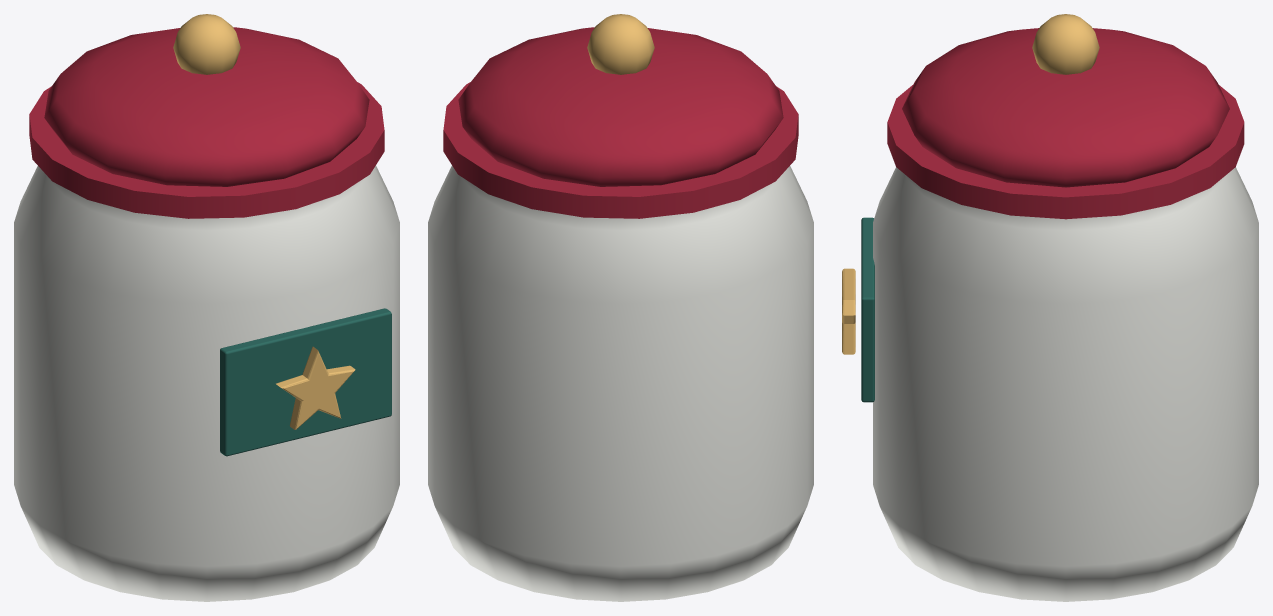
File: christmas-storybook-ceramic-sweet-jar-37fda3a2__18767.glb
3 views of the same model, side by side, from view 1: azimuth 30°, elevation 25°; view 2: azimuth 150°, elevation 25°; view 3: azimuth 270°, elevation 25° (orthographic).
Visible parts, largest first — view 1: cream, berry, pine, brass; view 2: cream, berry, brass; view 3: cream, berry, brass, pine.
Part boxes in pixels (bbox=[...]): cream: bbox=[14, 165, 399, 601]; berry: bbox=[29, 27, 384, 218]; pine: bbox=[220, 308, 391, 456]; brass: bbox=[173, 14, 355, 429]; cream: bbox=[428, 165, 813, 601]; berry: bbox=[443, 27, 798, 218]; brass: bbox=[587, 14, 654, 74]; cream: bbox=[873, 167, 1258, 601]; berry: bbox=[887, 28, 1244, 219]; brass: bbox=[842, 14, 1099, 354]; pine: bbox=[861, 217, 874, 402].
Size of the model in its own units: 0.4 by 0.585 by 0.432.
